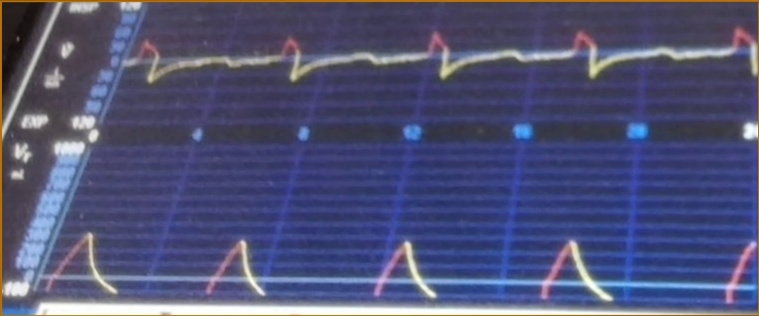Ineffective_effort Flow: (128, 23, 759, 112)
Ineffective_effort Volume: (47, 225, 753, 302)
